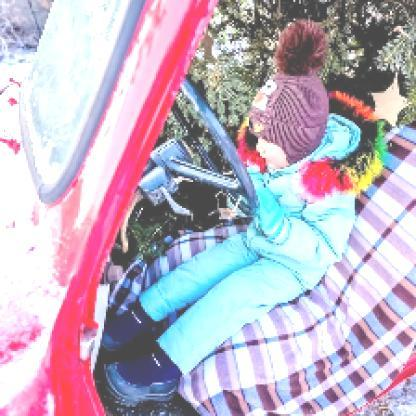child: (103, 18, 391, 406)
